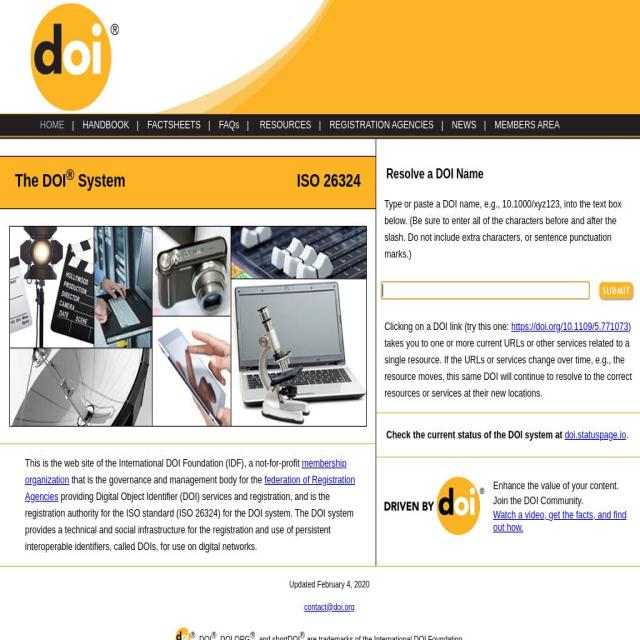button: (323, 118, 438, 131), (488, 118, 563, 131), (140, 118, 203, 131), (253, 118, 314, 131), (76, 118, 133, 131), (446, 118, 480, 131), (213, 118, 243, 131)
field: (382, 282, 590, 299), (598, 280, 635, 301)
heading: (386, 166, 634, 182)
image: (9, 226, 367, 427), (0, 0, 388, 114), (384, 477, 484, 535), (0, 137, 640, 139), (0, 114, 21, 136), (175, 627, 190, 640)
link: (25, 456, 346, 486), (25, 473, 355, 502), (493, 508, 626, 534), (511, 320, 629, 332), (564, 428, 627, 441), (304, 602, 355, 612)
text: (25, 490, 354, 552), (384, 320, 632, 399), (376, 196, 640, 262), (175, 576, 465, 592), (25, 457, 302, 469), (234, 167, 361, 189), (69, 473, 264, 486), (387, 428, 562, 441), (493, 479, 619, 492), (384, 320, 512, 332), (493, 494, 583, 507), (15, 170, 66, 192), (74, 170, 125, 192), (304, 633, 464, 640), (34, 118, 68, 131), (255, 633, 300, 640), (216, 633, 251, 640), (242, 118, 254, 131), (314, 118, 324, 131), (436, 118, 446, 131), (479, 118, 489, 131), (66, 167, 74, 183), (195, 633, 212, 640), (132, 118, 141, 131), (204, 118, 213, 131), (68, 118, 76, 131), (190, 630, 196, 640), (211, 630, 217, 640), (250, 630, 256, 640), (299, 630, 305, 640), (626, 428, 628, 441)
